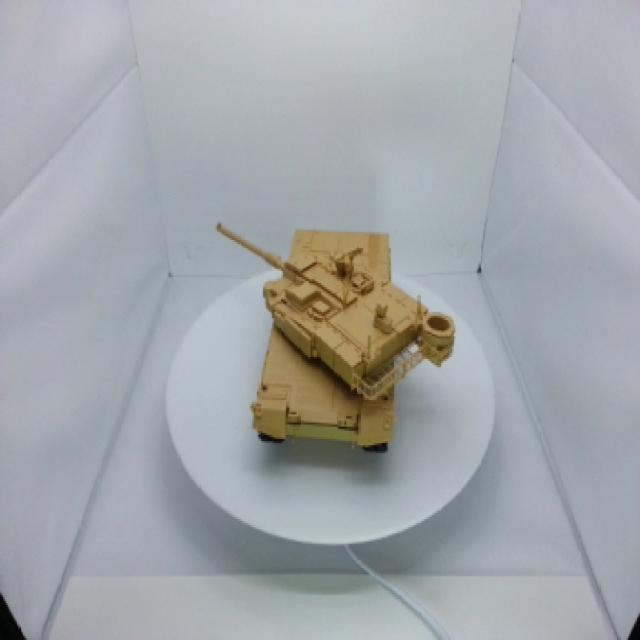korea tank: (151, 180, 480, 474)
